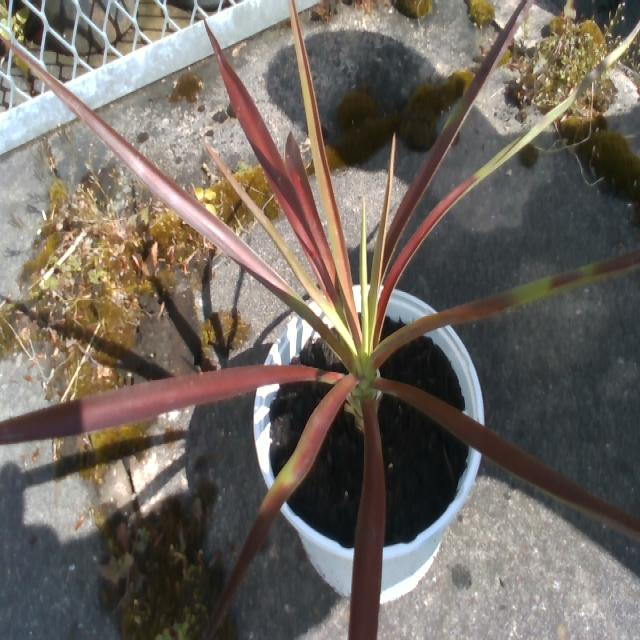Yucca-aloifolia: (26, 59, 319, 327), (385, 23, 639, 291), (375, 379, 639, 539), (383, 0, 532, 273), (214, 376, 355, 621), (207, 25, 334, 292), (373, 251, 639, 365), (0, 365, 340, 443), (289, 0, 360, 345), (206, 143, 328, 309), (349, 400, 385, 639), (368, 135, 394, 347), (286, 135, 330, 260), (360, 196, 368, 352)
